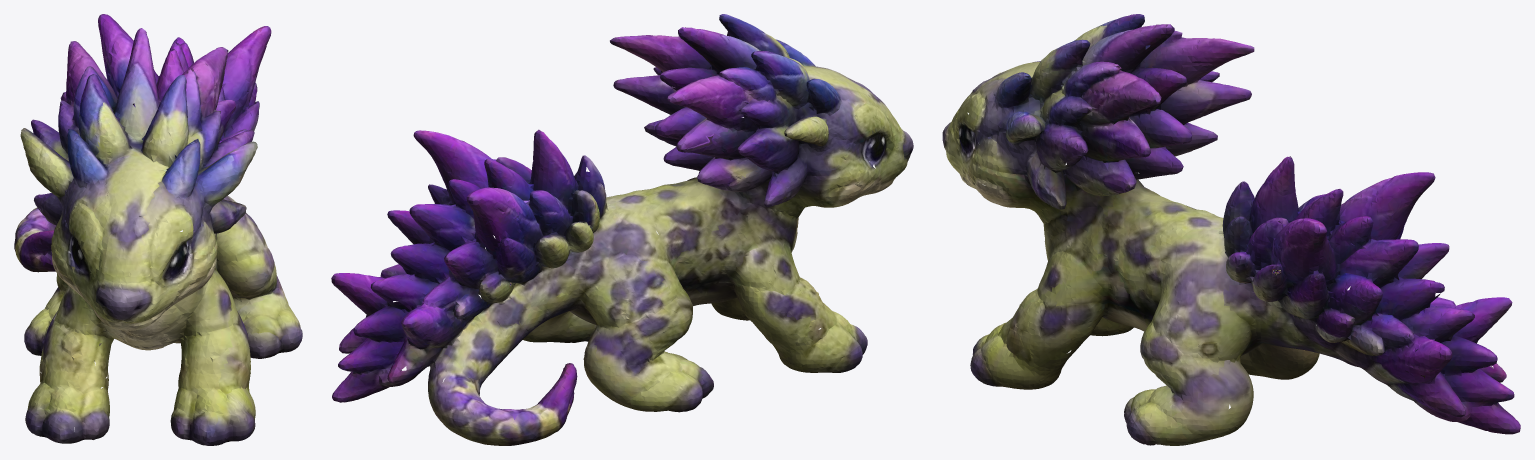
The model's file is toxilys.glb.
3 views of the same model, side by side, from view 1: azimuth 30°, elevation 25°; view 2: azimuth 150°, elevation 25°; view 3: azimuth 270°, elevation 25° (orthographic). The views are drawn at different scales.
Parts seen in each view (by area): view 1: plush; view 2: plush; view 3: plush.
Boxes of the visible parts, left/top/right/bottom form: plush: left=14, top=14, right=302, bottom=445; plush: left=331, top=14, right=913, bottom=445; plush: left=942, top=14, right=1520, bottom=445.
Size of the model in its own units: 0.7465 by 0.66 by 0.9776.
1 material, 1 textured.
